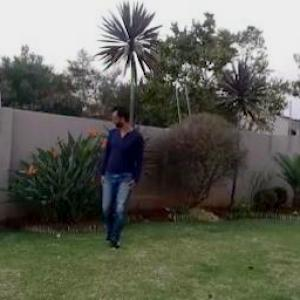follow: (92, 91, 146, 262)
